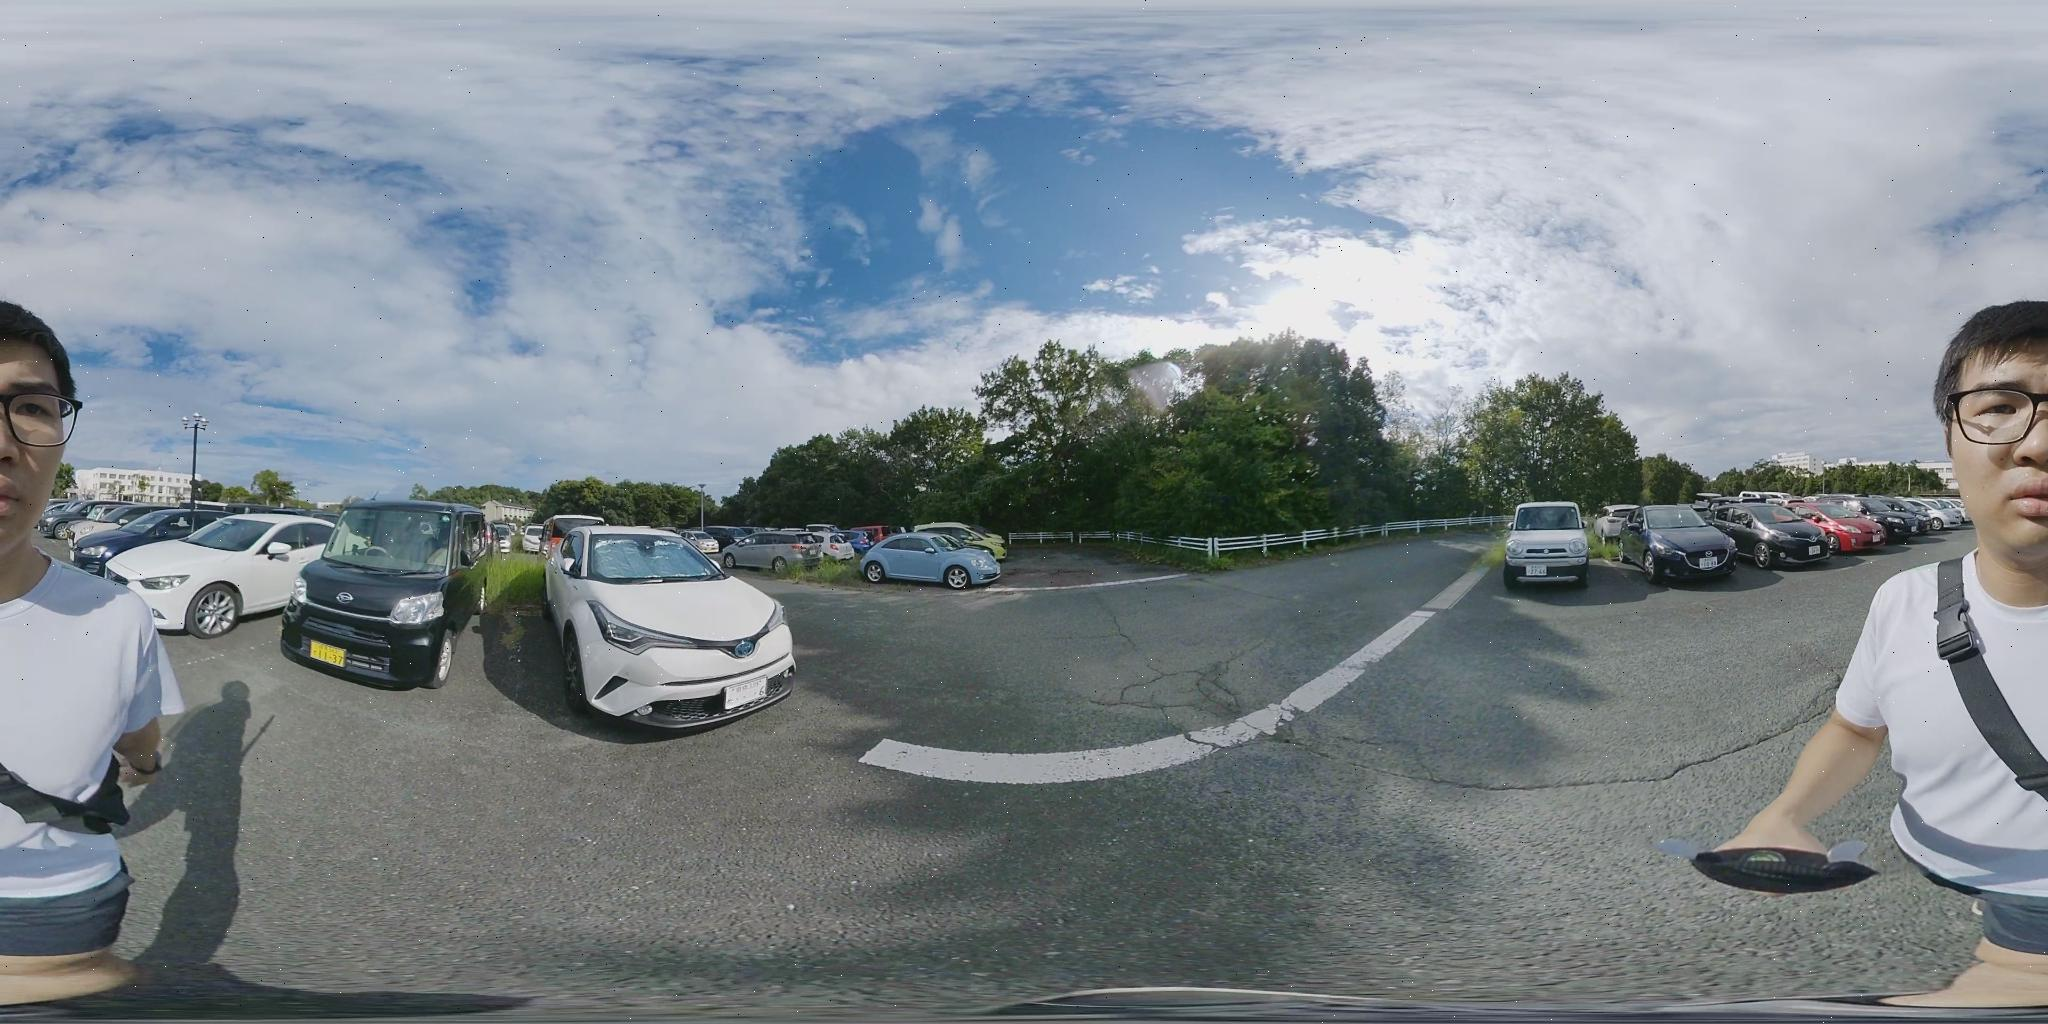car: (415, 517, 801, 735), (278, 499, 498, 694), (95, 513, 341, 639), (67, 507, 219, 572), (1620, 507, 1735, 583), (865, 530, 1015, 588), (1706, 503, 1842, 566), (1511, 500, 1590, 585), (1788, 503, 1890, 555), (37, 498, 154, 539), (1853, 495, 1937, 539), (1882, 498, 1976, 533)
